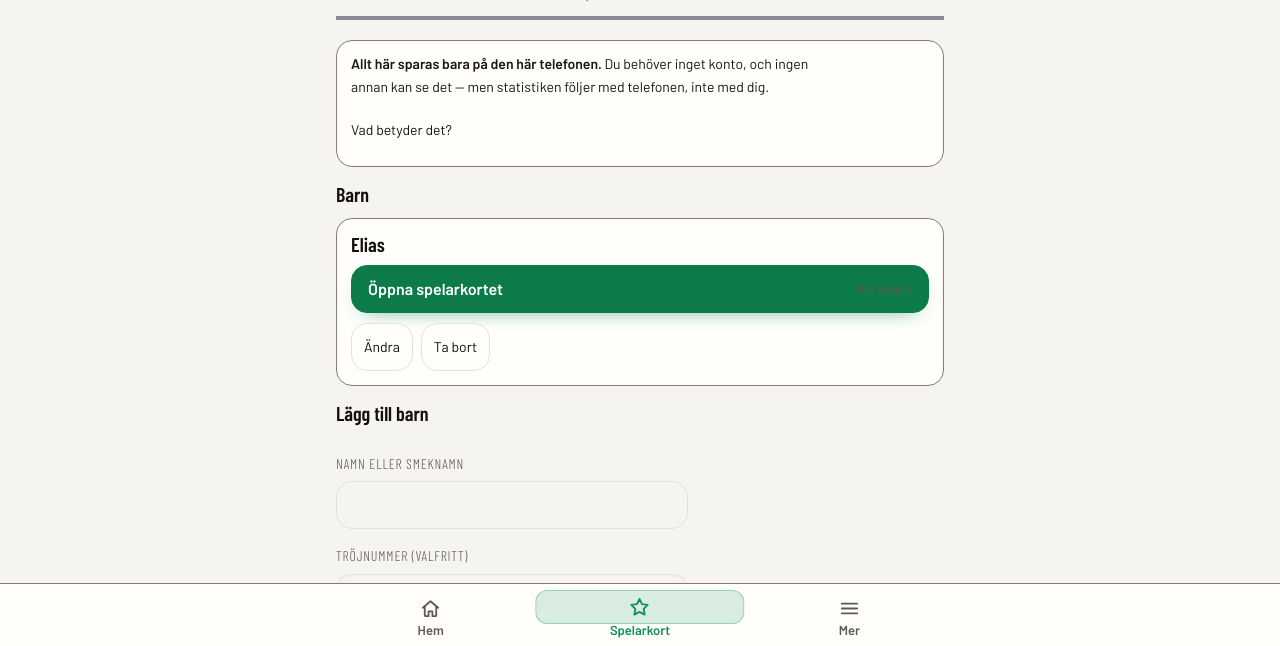
Test case: texten om var kortet finns › säger vad som får statistiken att försvinna
Click the heading "Vad betyder det?" at (402, 129), box [351,121,452,138]
(page scrolled)
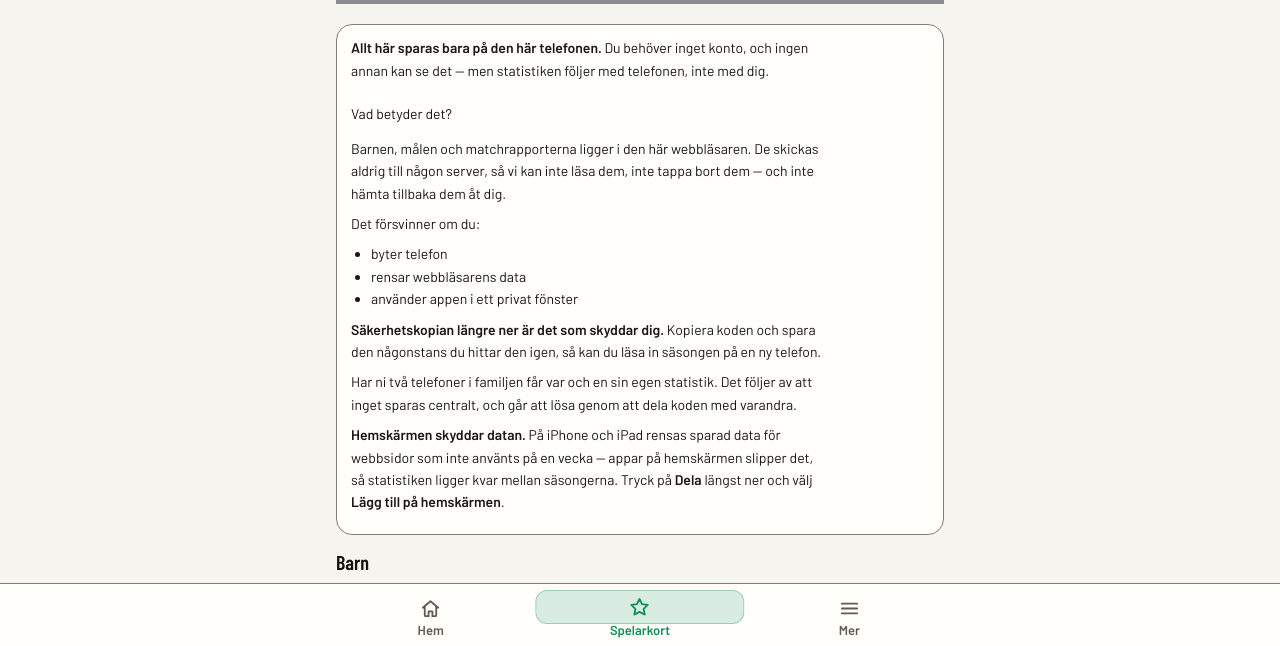
Result: the list item "byter telefon" is shown at [371,246,448,262]
Result: the list item "rensar webbläsarens data" is shown at [371,268,526,285]
Result: the text "Säkerhetskopian längre ner är det som skyddar dig." is shown at [351,321,664,338]
